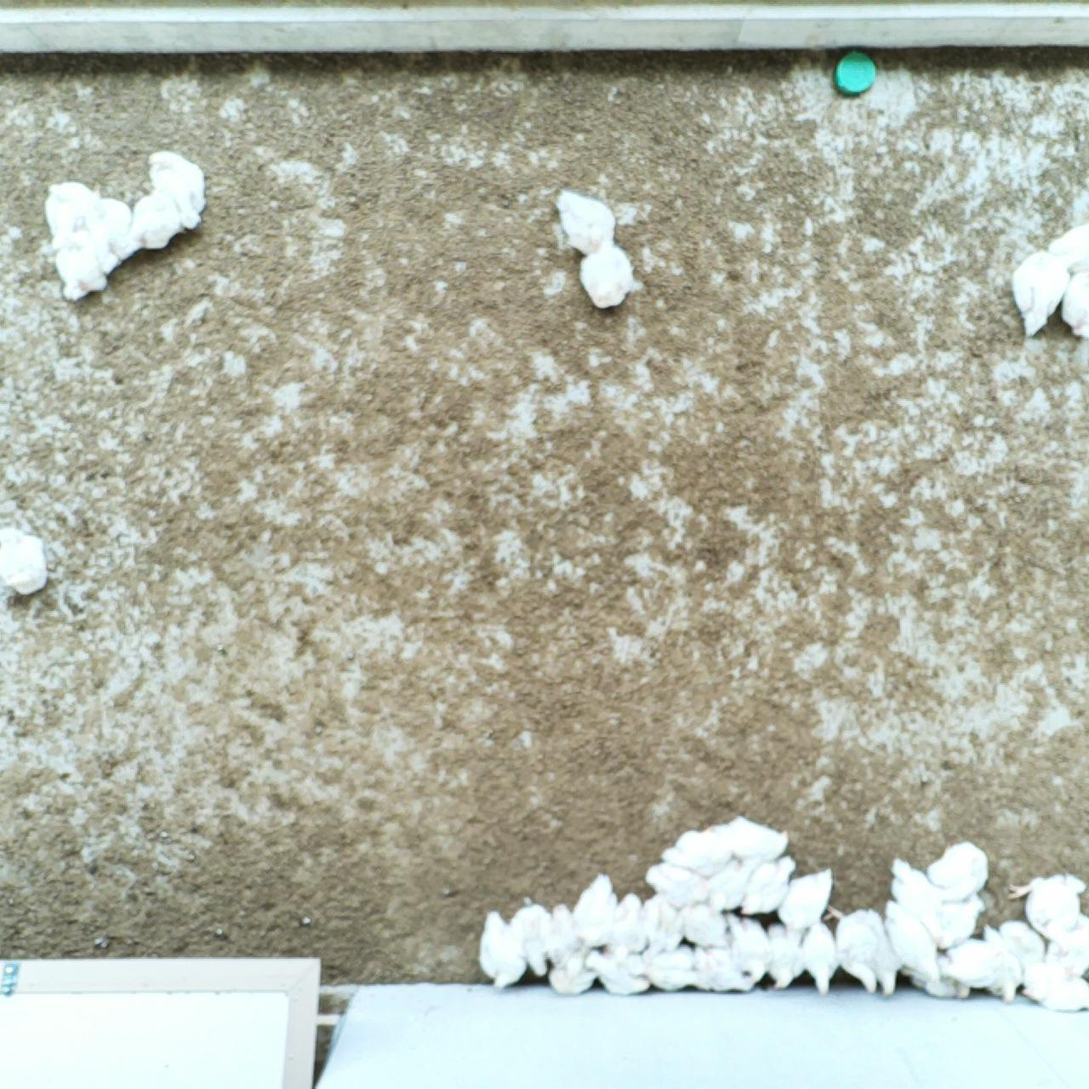chicken: (884, 854, 953, 948), (937, 930, 1023, 1004), (882, 891, 946, 989), (1010, 243, 1070, 338), (575, 233, 641, 314), (141, 147, 207, 225), (502, 893, 563, 977), (1005, 872, 1080, 938), (850, 908, 906, 996), (711, 808, 793, 867), (551, 185, 619, 255), (472, 908, 531, 986), (1024, 912, 1089, 981), (79, 197, 141, 269), (829, 908, 879, 995), (773, 865, 835, 934), (0, 519, 52, 599), (49, 233, 108, 303), (716, 911, 773, 983), (761, 914, 812, 993), (926, 839, 993, 899), (573, 869, 622, 949), (797, 912, 843, 997), (923, 892, 986, 954), (1017, 960, 1089, 1014), (740, 853, 796, 921), (693, 943, 759, 999), (44, 177, 98, 244), (661, 828, 732, 878), (132, 185, 184, 252), (587, 950, 654, 1001), (635, 888, 686, 955), (603, 884, 650, 956), (644, 860, 716, 907), (1047, 265, 1089, 345), (996, 913, 1050, 975), (671, 898, 730, 952), (546, 946, 605, 999), (538, 897, 586, 962), (1040, 217, 1089, 279), (644, 941, 700, 991), (704, 857, 752, 915)
